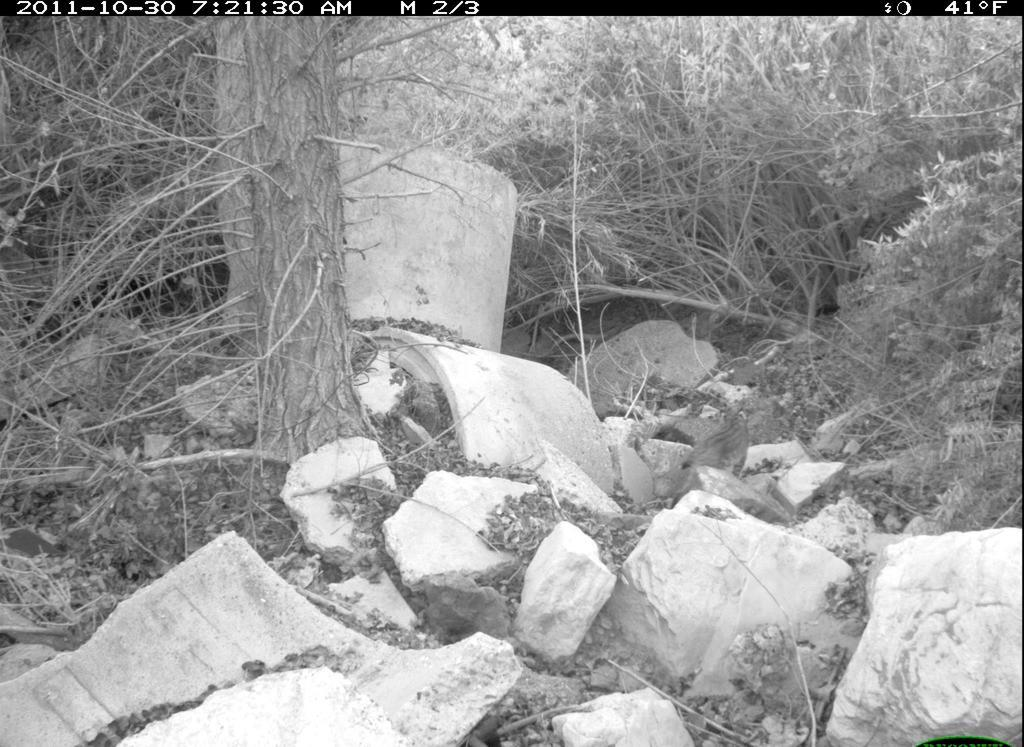bobcat: (665, 401, 762, 505)
